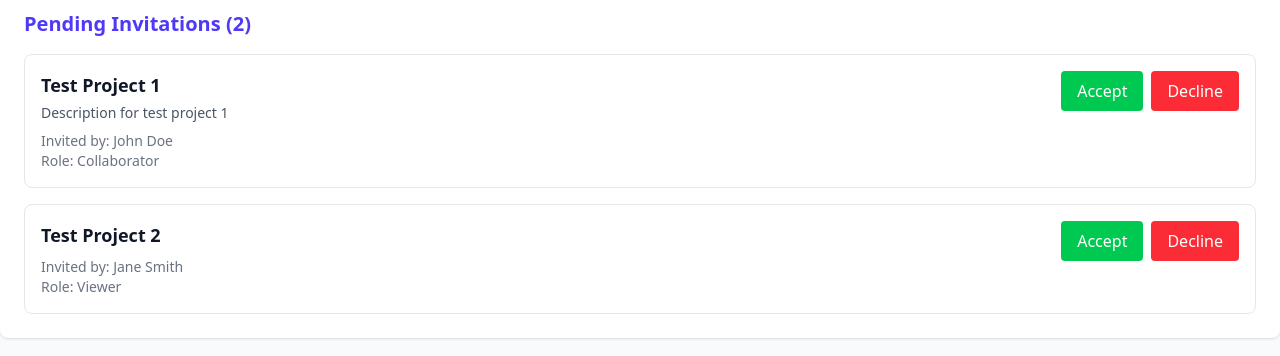
Test case: PendingInvitations › Accept Invitation › shows processing state when accepting invitation
Expected: the heading "Test Project 1" is shown, x1=41 y1=73 x2=161 y2=97
Click the button "Accept" in the row of "Description for test project 1" at [1102, 91], box x1=1061 y1=71 x2=1143 y2=111
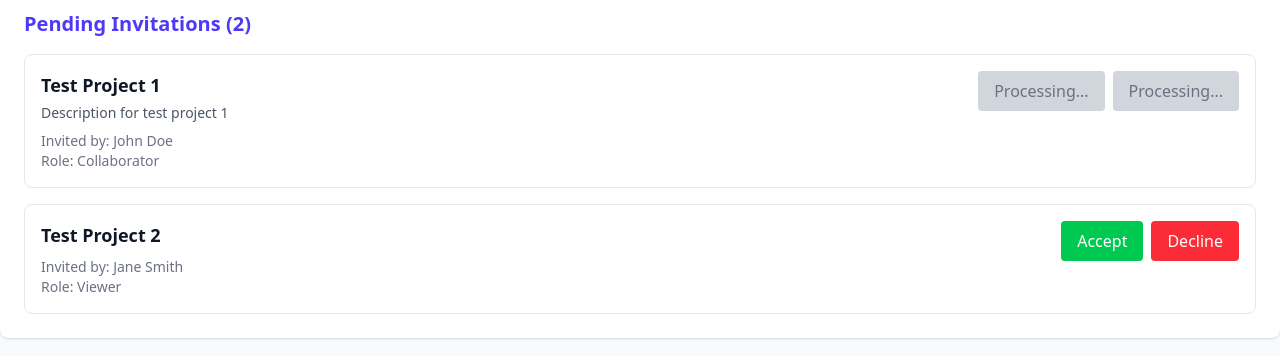
Expected: the 1st button "Processing..." is shown, x1=978 y1=71 x2=1105 y2=111
